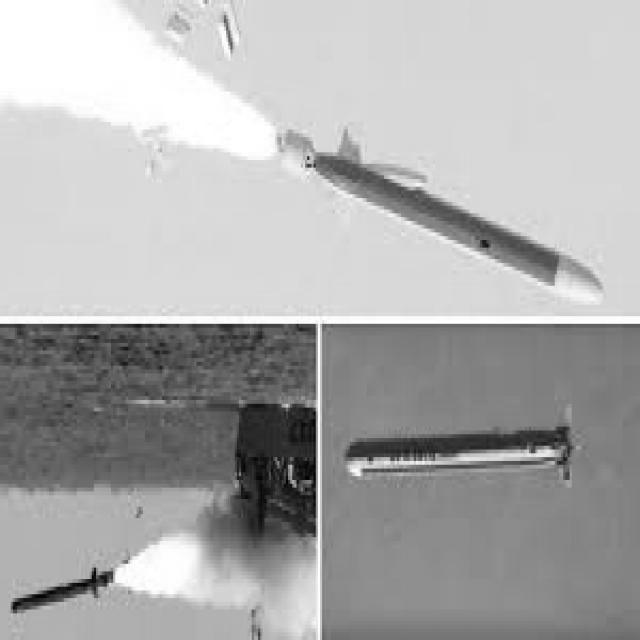missile: (272, 121, 605, 312), (331, 400, 607, 497), (5, 564, 124, 624)
